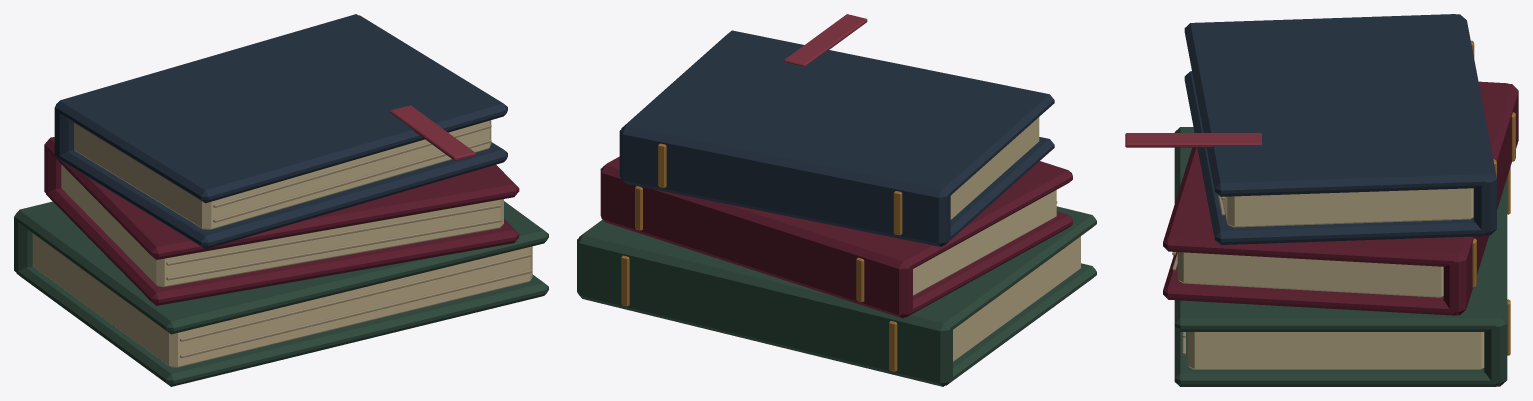
File: BedsideBooks.glb
The picture shows the model from 3 angles, left to right: view 1: azimuth 30°, elevation 25°; view 2: azimuth 150°, elevation 25°; view 3: azimuth 270°, elevation 25°; orthographic projection. The views are drawn at different scales.
Visible parts, largest first — view 1: BookCover.005, Pages, BookCover.001, Pages.001, BookCover, Pages.002, BookCover.003, BookCover.002, BookCover.004, BookSpine.002, RibbonBookmark, PageLines (+7 smaller); view 2: BookCover.005, BookSpine, BookSpine.002, BookSpine.001, BookCover.001, BookCover.003, Pages, Pages.001, BookCover.002, BookCover, Pages.002, BookCover.004 (+3 smaller); view 3: BookCover.005, Pages, BookCover.001, BookCover.003, Pages.001, Pages.002, BookCover.004, BookCover, BookCover.002, BookSpine.001, BookSpine, BookSpine.002 (+1 smaller).
Part boxes in pixels (x1,y1,x2,y2): BookCover.005: (57, 15, 507, 203); Pages: (32, 233, 532, 367); BookCover.001: (16, 201, 548, 334); Pages.001: (61, 164, 503, 287); BookCover: (16, 266, 548, 386); Pages.002: (74, 120, 491, 229); BookCover.003: (46, 139, 519, 259); BookCover.002: (46, 188, 519, 305); BookCover.004: (57, 142, 507, 249); BookSpine.002: (54, 14, 358, 157); RibbonBookmark: (390, 105, 475, 160); PageLines: (180, 269, 531, 357); BookCover.005: (621, 30, 1054, 195); BookSpine: (577, 232, 952, 386); BookSpine.002: (619, 124, 950, 246); BookSpine.001: (600, 163, 912, 318); BookCover.001: (579, 206, 1096, 330); BookCover.003: (603, 156, 1072, 268); Pages: (953, 236, 1080, 361); Pages.001: (913, 190, 1056, 295); BookCover.002: (905, 211, 1072, 317); BookCover: (945, 263, 1096, 385); Pages.002: (950, 117, 1039, 219); BookCover.004: (943, 137, 1054, 245); BookCover.005: (1184, 14, 1487, 196); Pages: (1188, 332, 1484, 369); BookCover.001: (1174, 127, 1496, 331); BookCover.003: (1163, 81, 1507, 266); Pages.001: (1177, 252, 1443, 297); Pages.002: (1222, 188, 1473, 227); BookCover.004: (1184, 71, 1487, 244); BookCover: (1174, 327, 1496, 386); BookCover.002: (1163, 252, 1455, 315); BookSpine.001: (1443, 83, 1518, 315); BookSpine: (1484, 178, 1507, 386); BookSpine.002: (1455, 14, 1496, 235).
Bounding box in the file's own units: 1.22 × 0.566 × 1.04.
